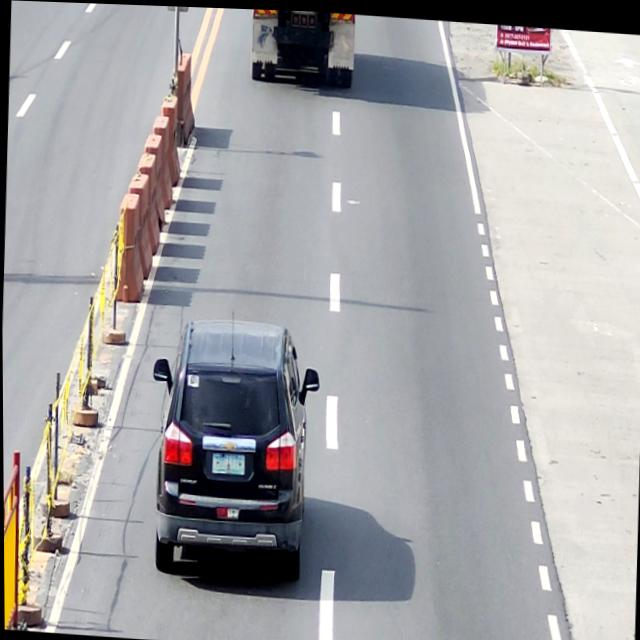Car: (144, 308, 322, 582)
License-Plate: (209, 446, 245, 474)
Truck: (248, 7, 355, 85)
